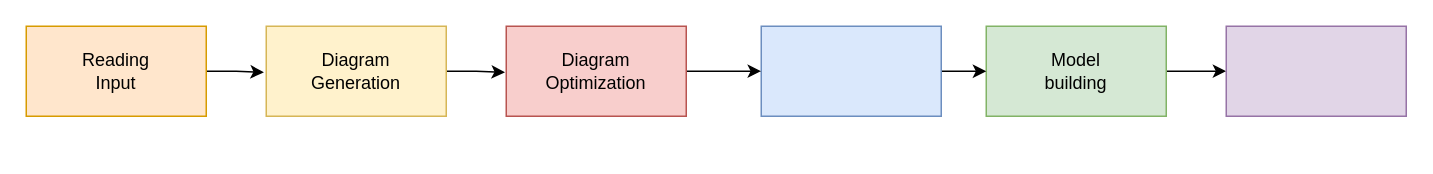
This 1433x174 diagram has some shape labels left out. The centre of each missing label's shape, as x and y in pixels:
"Circuit generation" belongs at point 850,70.
"Model Training" belongs at point 1315,70.
